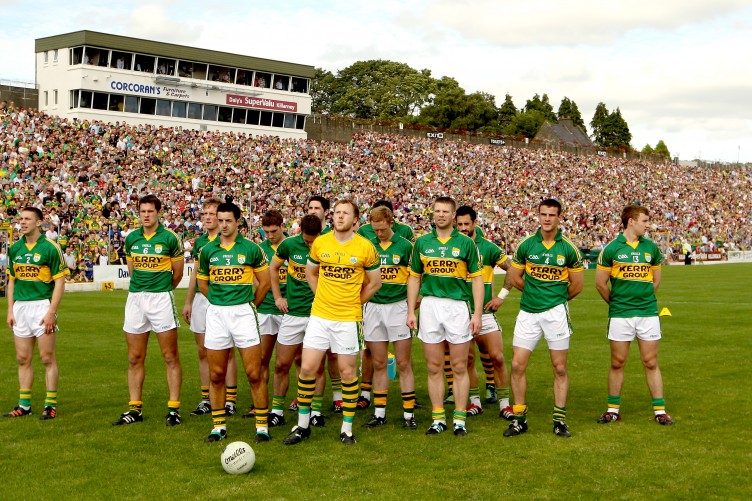ball: (217, 439, 256, 475)
player: (510, 196, 584, 436), (307, 201, 380, 440), (120, 194, 190, 425), (205, 206, 274, 439), (606, 201, 673, 425), (417, 200, 481, 433), (4, 208, 74, 418)
